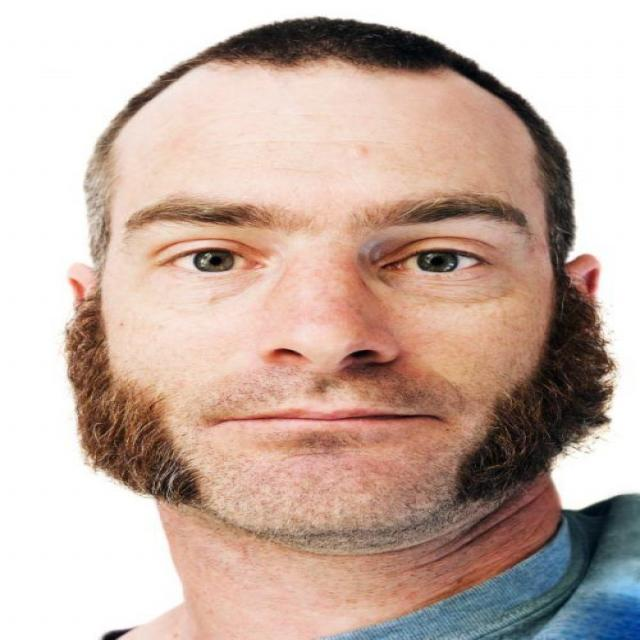beard: (460, 286, 616, 501), (65, 295, 200, 506)
hair: (83, 16, 570, 259)
